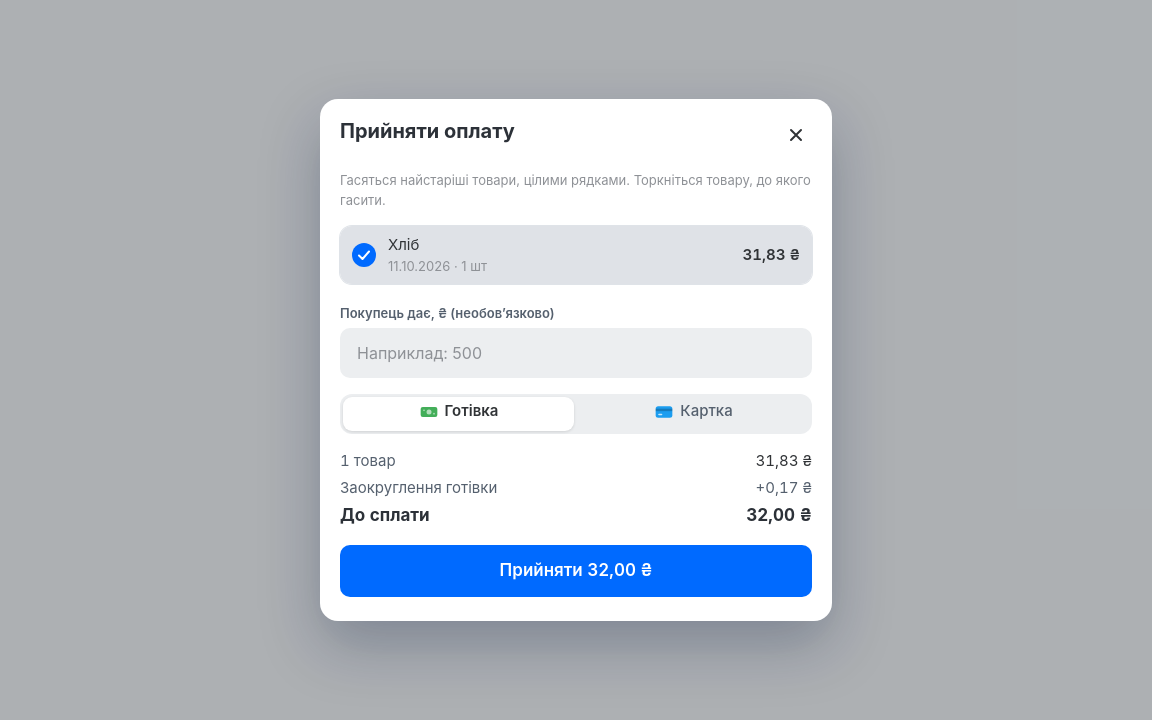
PaySheet › never rounds a card
What coordinates should you click on to do the following:
click the button "Картка"
I would click on:
 (694, 414)
Its box is x1=578 y1=397 x2=809 y2=431.
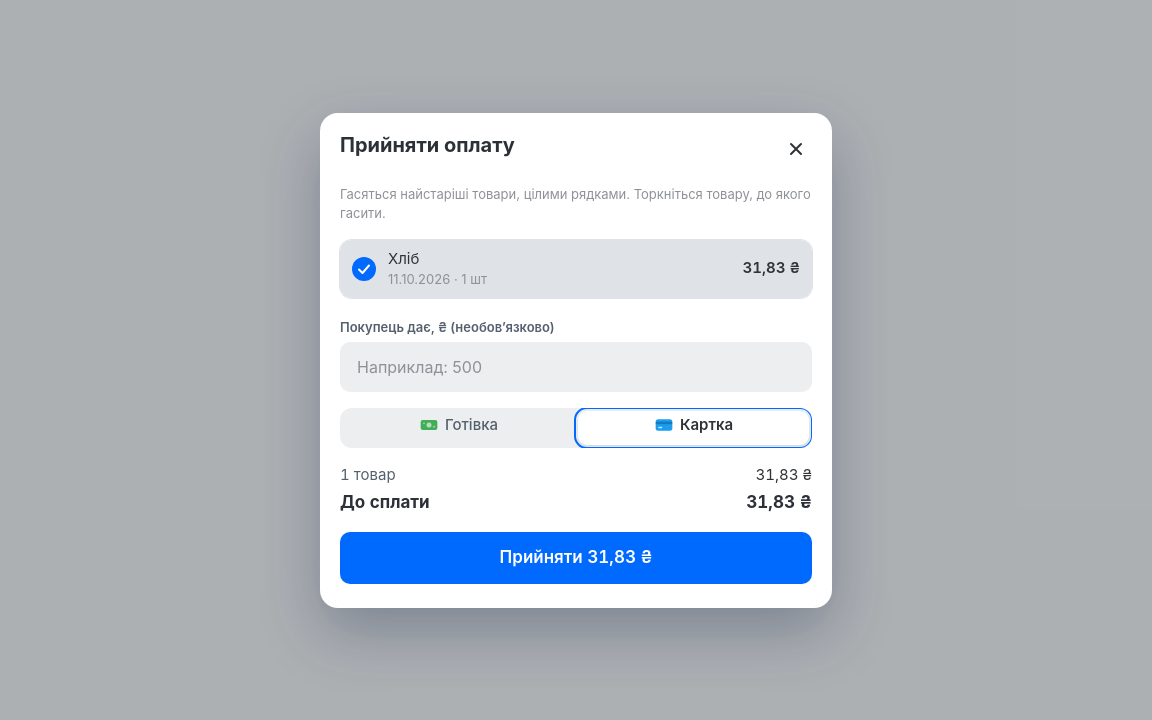
Now the text "Заокруглення готівки" is gone
